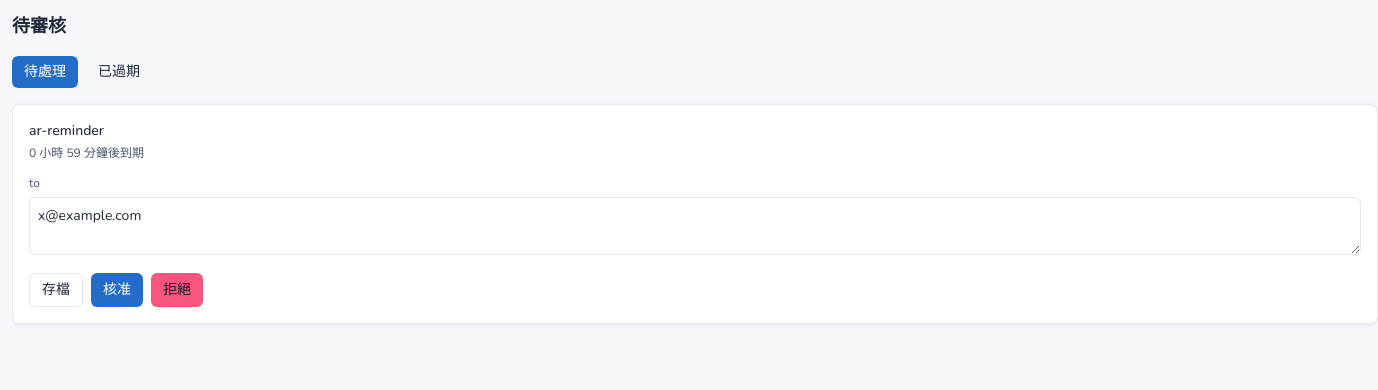
ApprovalsPage › shows an error and re-enables buttons when the PATCH fails
This screenshot has width=1378, height=390.
Click the button "核准": x=117, y=290 x1=91 y1=273 x2=143 y2=307
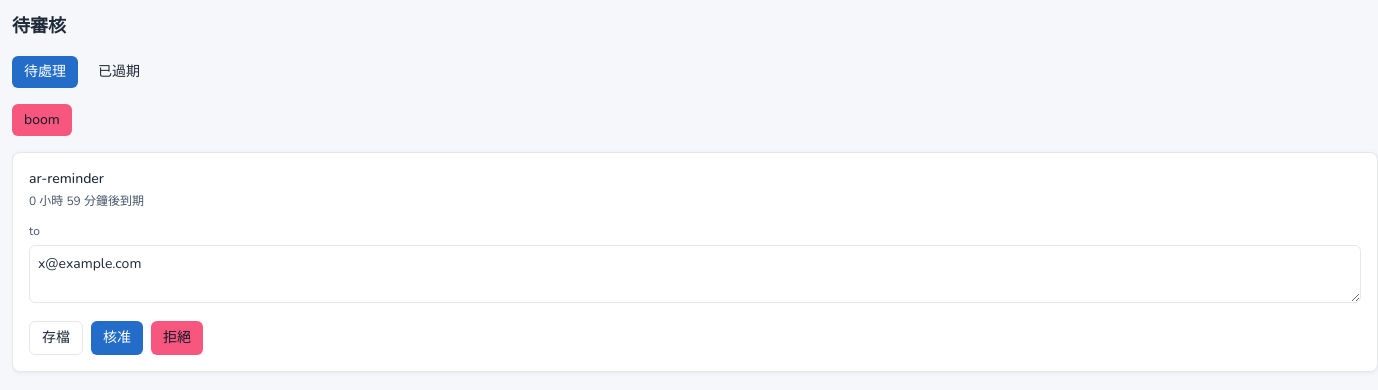
Expected: the button "核准" is enabled, x1=91 y1=321 x2=143 y2=355
Result: the text "boom" is shown at x1=12 y1=104 x2=72 y2=136
